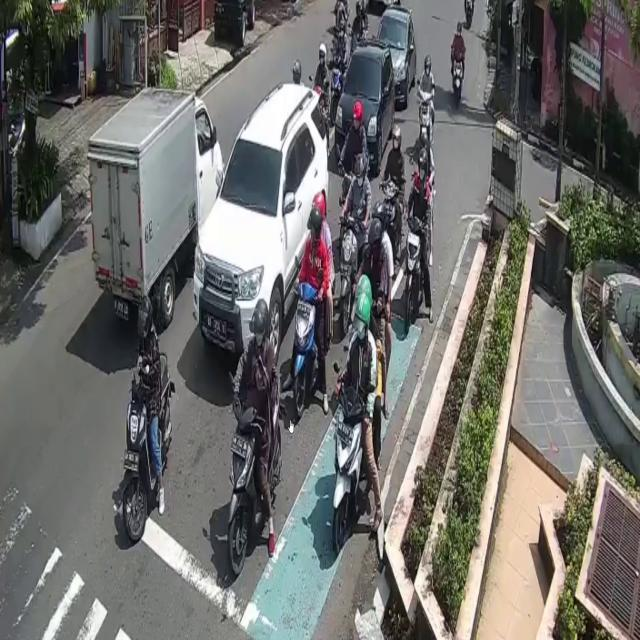bus: (228, 375, 280, 578), (128, 350, 174, 541), (334, 386, 366, 552), (296, 280, 318, 417), (404, 213, 426, 335), (338, 216, 358, 335), (418, 86, 433, 141), (452, 46, 464, 112)
motorcycle: (192, 80, 328, 374), (334, 39, 395, 177), (374, 5, 417, 107)
truck: (88, 85, 225, 328)
